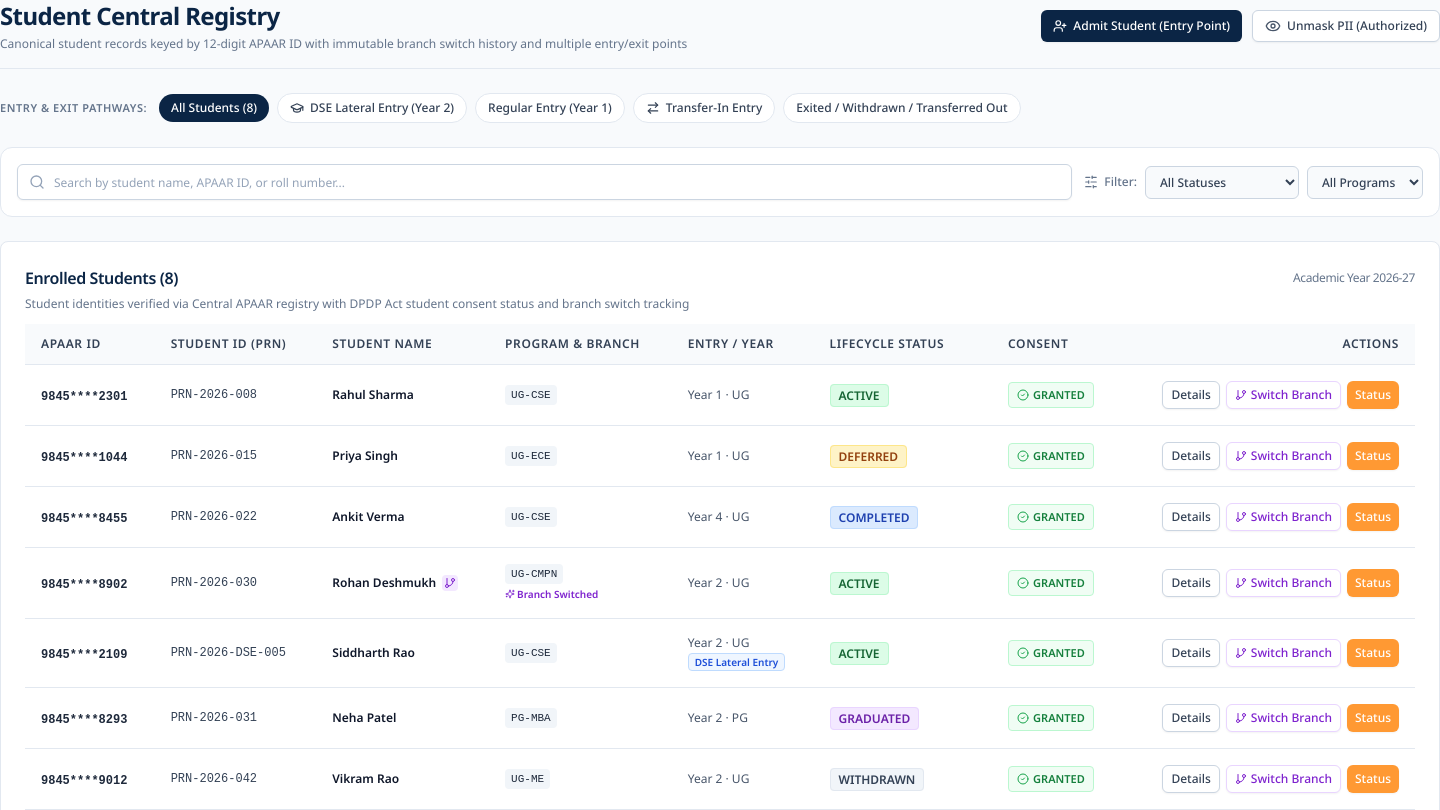
Scenario: Task A4: Institution Operations & Lifecycle Management › 1. Student Central Registry & Lifecycle Transitions (/institution/students) › transition dialog blocks transitions for terminal states (GRADUATED/WITHDRAWN/TRANSFERRED_OUT)
Expected: the text "Neha Patel" is shown, [332,710,396,726]
Neha Patel is GRADUATED (terminal state)
Click the button with test id "change-status-btn-984566718293".
click(1373, 718)  # box [1347,704,1399,732]
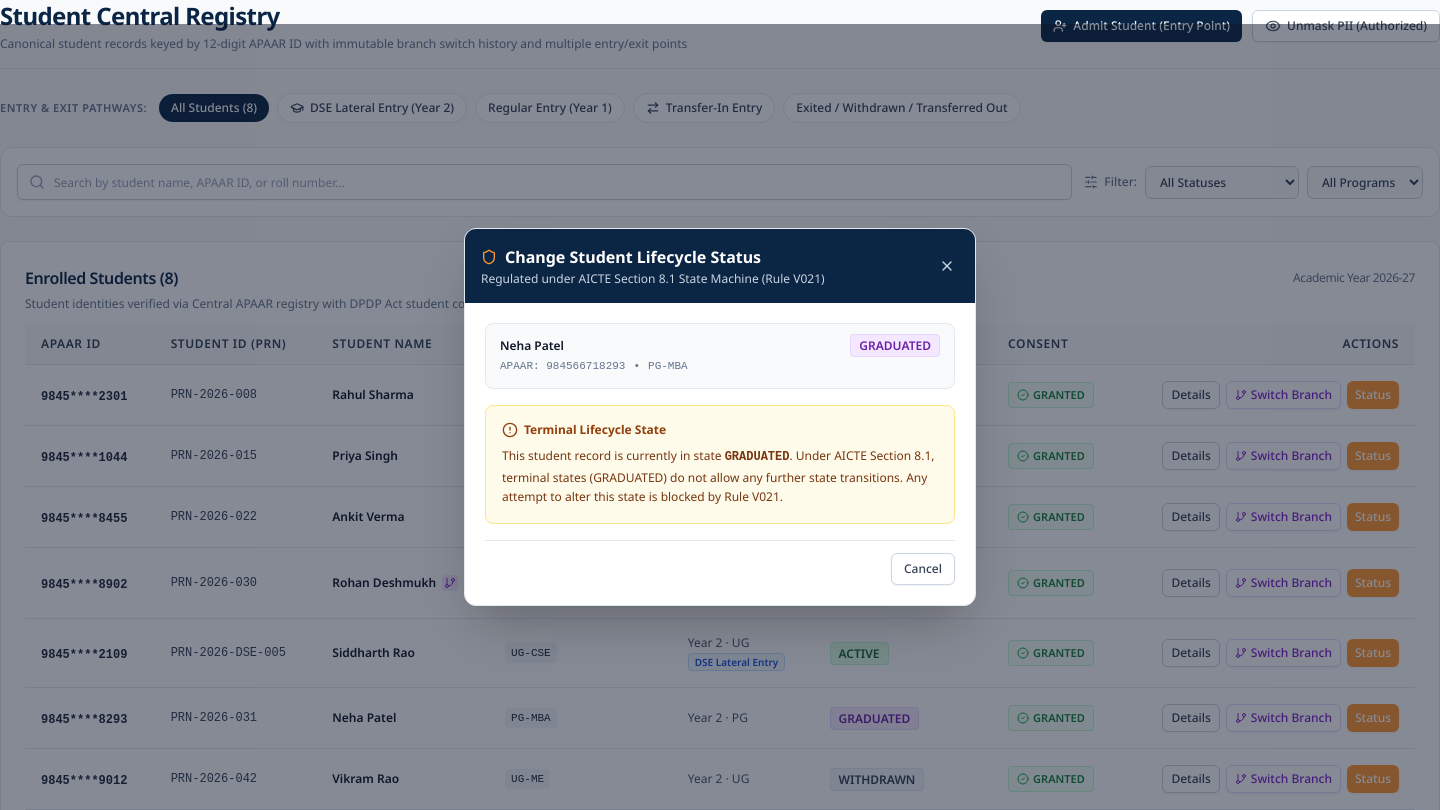
Now the dialog is shown
Now the text "Terminal Lifecycle State" is shown, box [524,422,666,438]
Now the text "terminal states (GRADUATED) do not allow any further state transitions" is shown, box [502,446,938,507]
